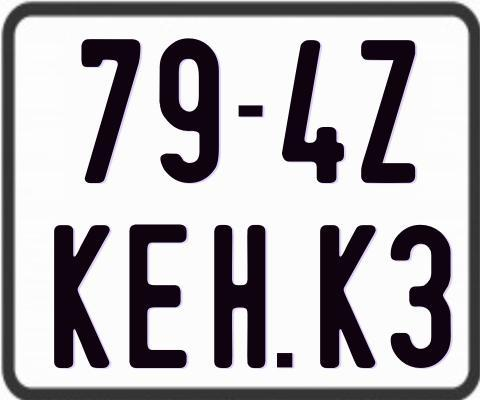3: (390, 222, 456, 371)
4: (279, 39, 343, 185)
7: (79, 36, 142, 183)
9: (157, 35, 222, 183)
E: (129, 223, 188, 373)
H: (211, 225, 265, 372)
K: (51, 225, 113, 368), (319, 223, 378, 368)
Z: (360, 40, 417, 183)
